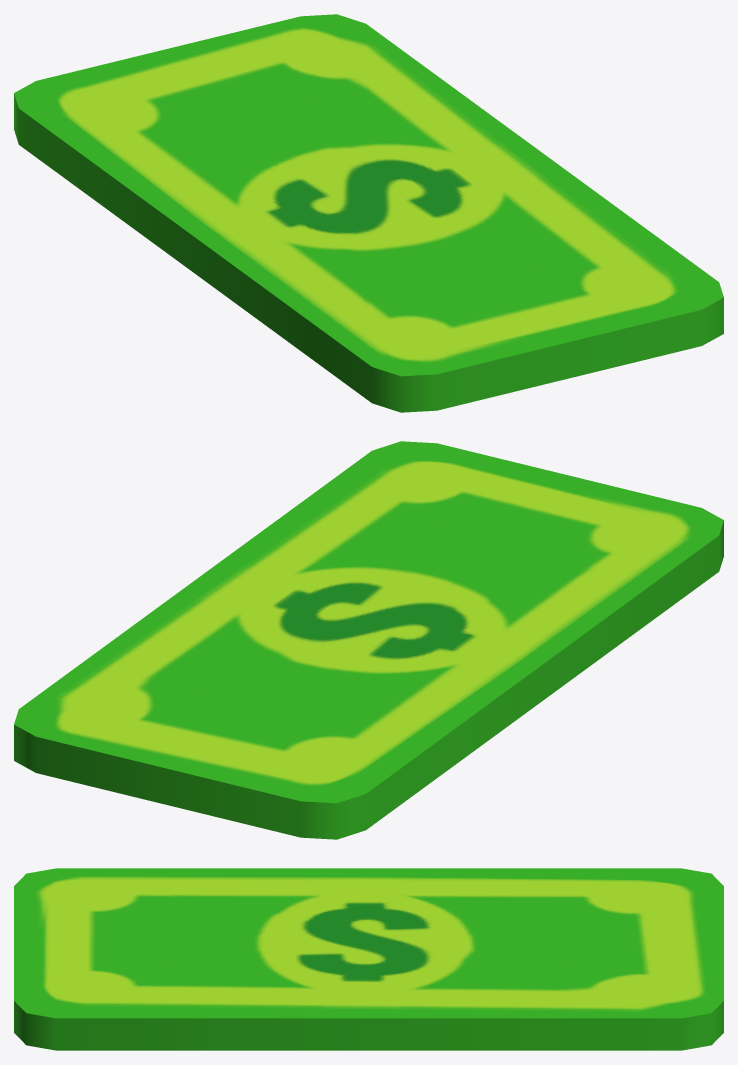
The model's file is Money.fbx.
The picture shows the model from 3 angles, top to bottom: view 1: azimuth 30°, elevation 25°; view 2: azimuth 150°, elevation 25°; view 3: azimuth 270°, elevation 25°; orthographic projection. The views are drawn at different scales.
Visible parts, largest first — view 1: Money.001; view 2: Money.001; view 3: Money.001.
Boxes of the visible parts, <box> form: Money.001: <box>14,14,723,412</box>; Money.001: <box>14,441,723,839</box>; Money.001: <box>14,868,723,1050</box>.
Bounding box in the file's own units: 25 × 2.5 × 50.
Materials: 1 (1 with a texture image).
